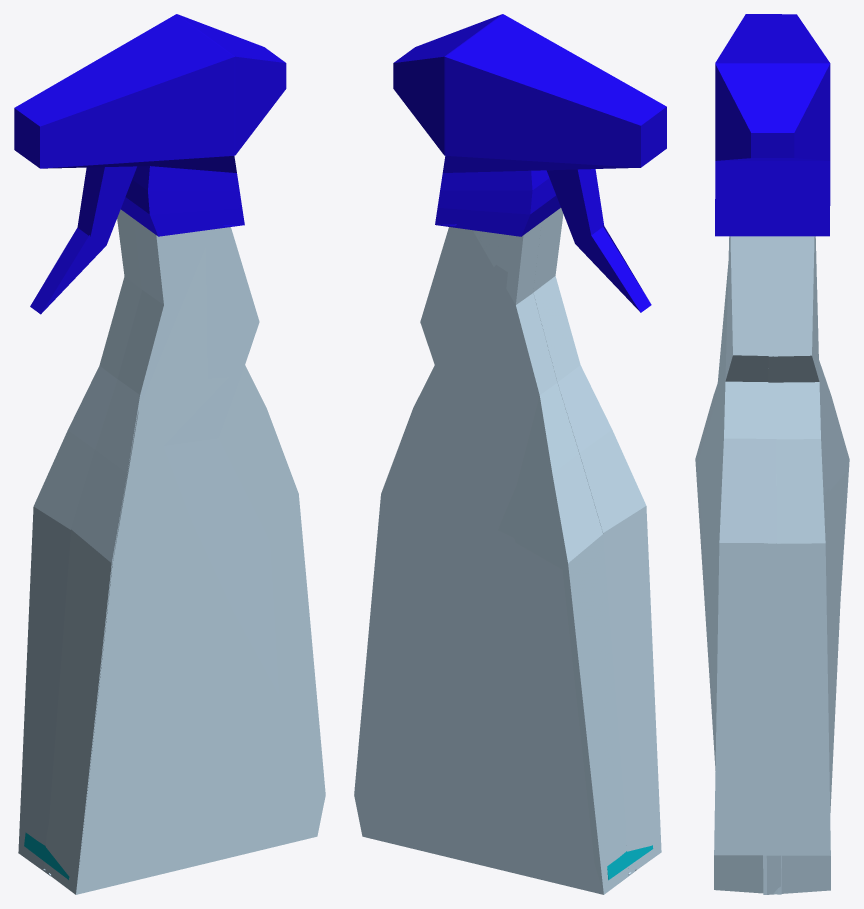
The model's file is cleaning-bottle.fbx.
The picture shows the model from 3 angles, left to right: view 1: azimuth 30°, elevation 25°; view 2: azimuth 150°, elevation 25°; view 3: azimuth 270°, elevation 25°; orthographic projection.
Parts seen in each view (by area): view 1: Cube.028, Cube.026, Cube.025; view 2: Cube.027, Cube.028, Cube.026, Cube.025; view 3: Cube.028, Cube.027, Cube.026.
Boxes of the visible parts, left/top/right/bottom form: Cube.028: left=18, top=209, right=325, bottom=894; Cube.026: left=14, top=14, right=286, bottom=236; Cube.025: left=30, top=166, right=136, bottom=314; Cube.027: left=354, top=227, right=636, bottom=894; Cube.028: left=473, top=208, right=661, bottom=894; Cube.026: left=393, top=14, right=666, bottom=236; Cube.025: left=546, top=169, right=651, bottom=312; Cube.028: left=695, top=236, right=849, bottom=894; Cube.027: left=763, top=236, right=846, bottom=894; Cube.026: left=715, top=14, right=830, bottom=236.
Bounding box in the file's own units: 262 × 738 × 131.
